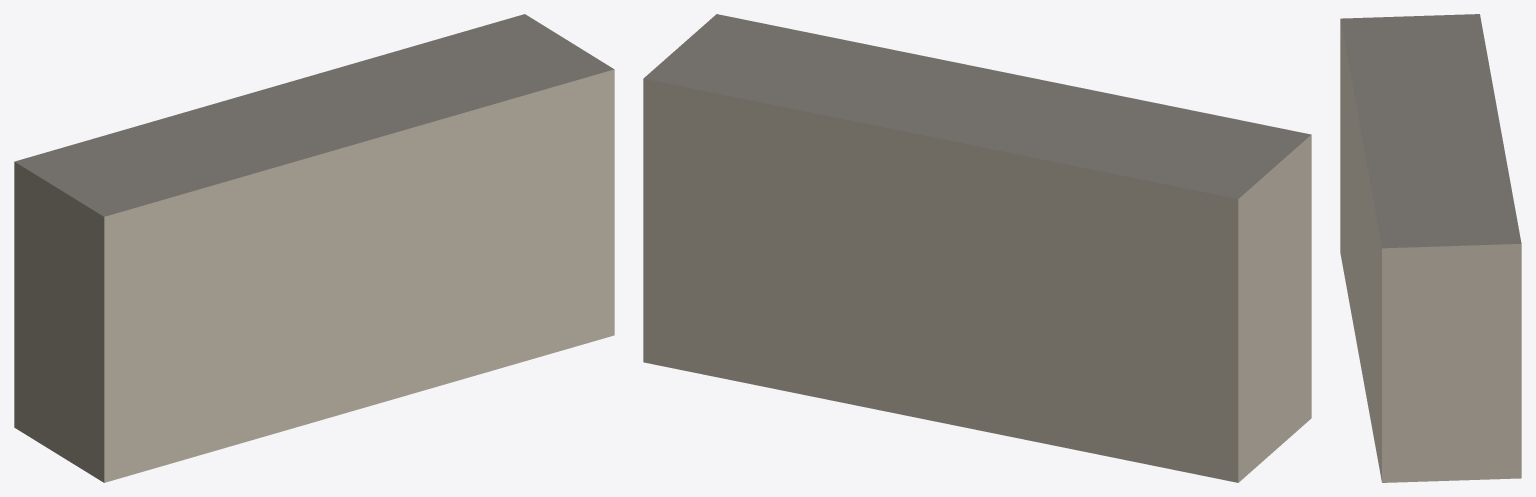
3 views of the same model, side by side, from view 1: azimuth 30°, elevation 25°; view 2: azimuth 150°, elevation 25°; view 3: azimuth 270°, elevation 25° (orthographic). The views are drawn at different scales.
Parts seen in each view (by area): view 1: HP-w858824313; view 2: HP-w858824313; view 3: HP-w858824313.
Boxes of the visible parts, <box> form: HP-w858824313: <box>14,14,614,482</box>; HP-w858824313: <box>643,14,1311,482</box>; HP-w858824313: <box>1340,14,1521,482</box>.
Bounding box in the file's own units: 38.55 × 18 × 12.6.
